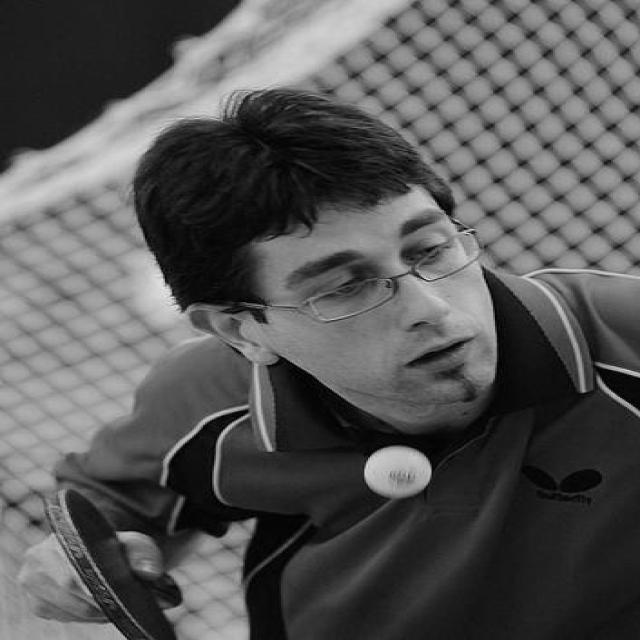ping-pong-ball: (364, 446, 437, 502)
